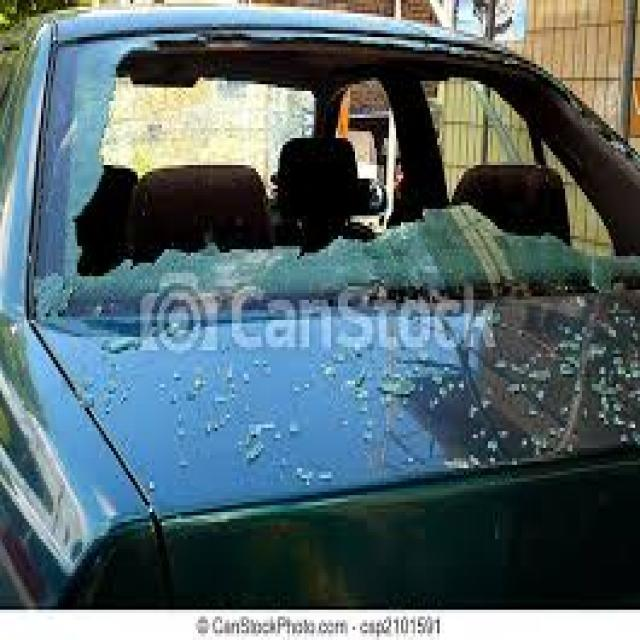damaged-rear-window: (47, 25, 640, 319)
